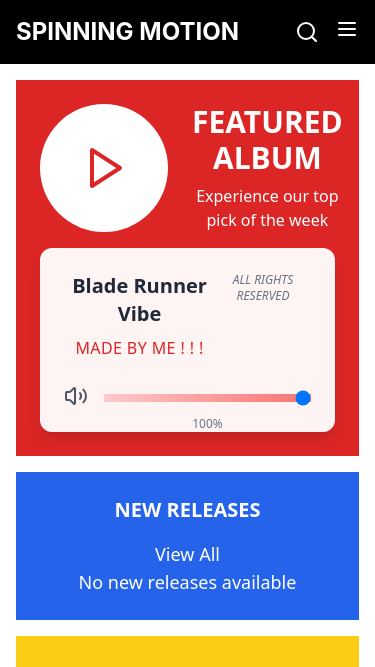
Test: Authentication › Mobile View › should open auth modal through mobile menu
// Open mobile menu
Click the 2nd button: click(347, 29) [335,17,359,41]
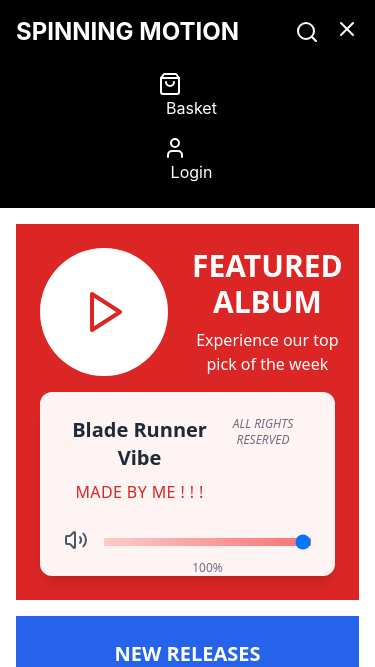
// Click login in mobile menu
Click the button "Login": click(188, 160) [163,128,213,192]
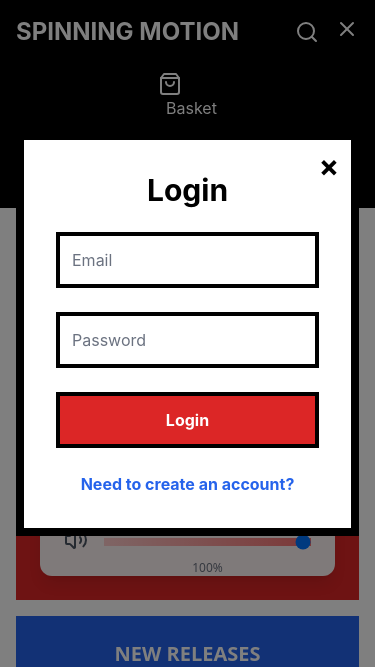
expect the element with class "inset-0" is shown: met
expect the field named "email" is shown: met, box [56,232,319,288]
expect the password field named "password" is shown: met, box [56,312,319,368]
